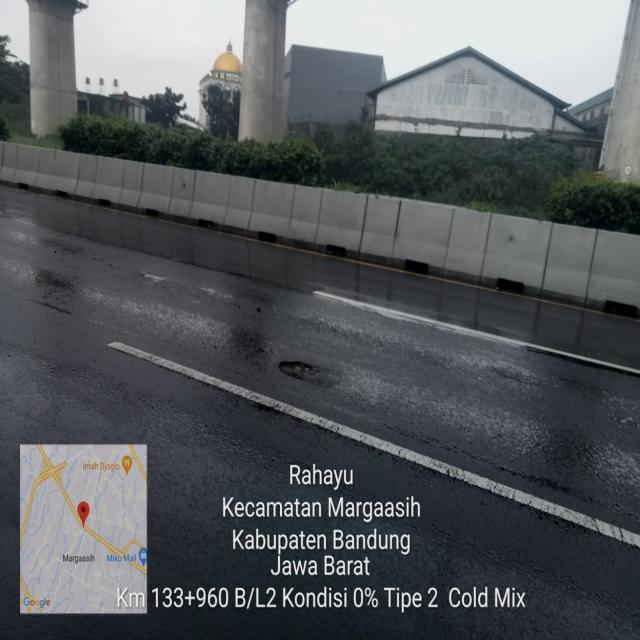Buraco: (275, 358, 325, 383)
